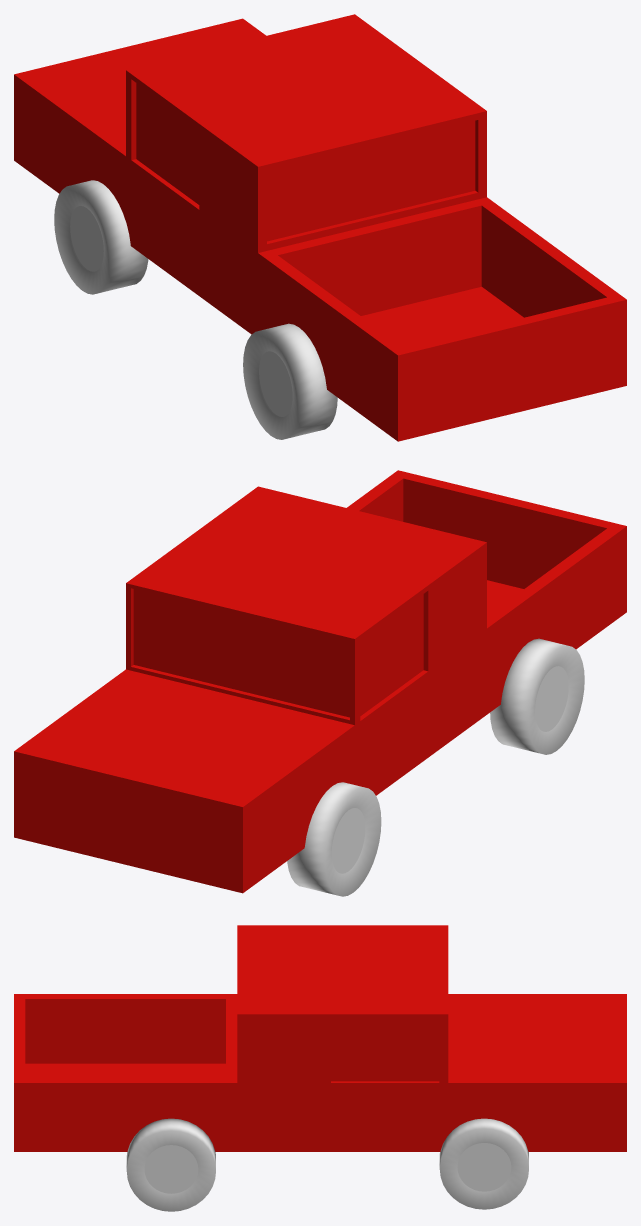
The model's file is car.fbx.
The picture shows the model from 3 angles, top to bottom: view 1: azimuth 30°, elevation 25°; view 2: azimuth 150°, elevation 25°; view 3: azimuth 270°, elevation 25°; orthographic projection. The views are drawn at different scales.
Visible parts, largest first — view 1: karosse, reifen.002, reifen.003; view 2: karosse, reifen.002, reifen.003; view 3: karosse, reifen.001, reifen.
Boxes of the visible parts, box(x1,y1,x2,y2) form: karosse: box(14, 14, 626, 441); reifen.002: box(243, 323, 337, 439); reifen.003: box(54, 180, 148, 294); karosse: box(14, 470, 626, 893); reifen.002: box(490, 638, 584, 754); reifen.003: box(287, 782, 381, 896); karosse: box(14, 925, 626, 1151); reifen.001: box(126, 1118, 215, 1211); reifen: box(439, 1118, 528, 1209).
Bounding box in the file's own units: 1192 × 915 × 2745.
